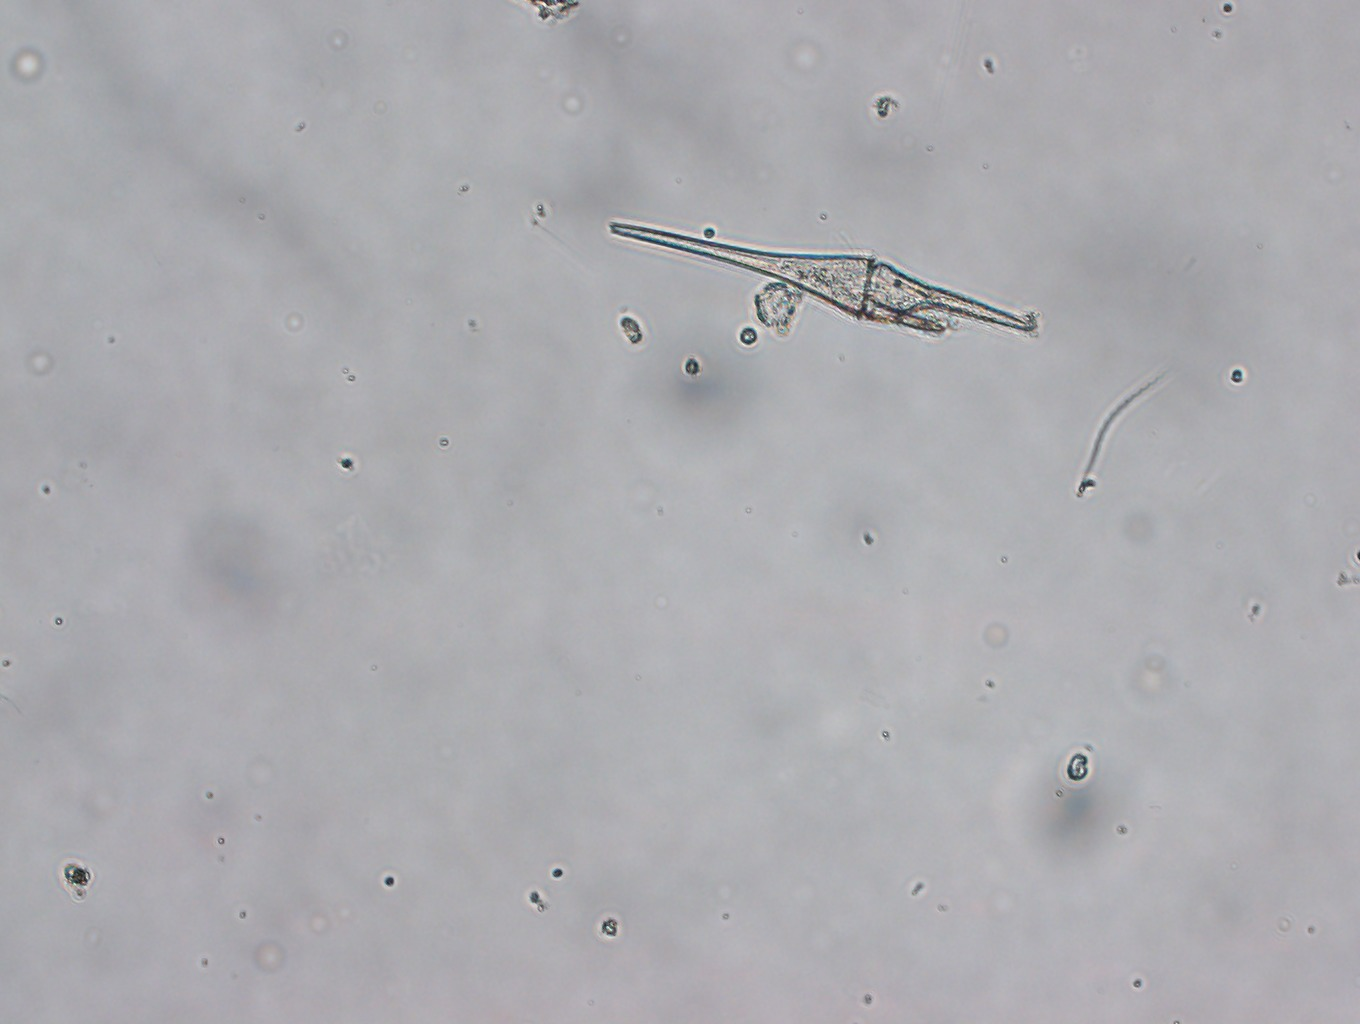ceratium furca: (606, 222, 1040, 336)
